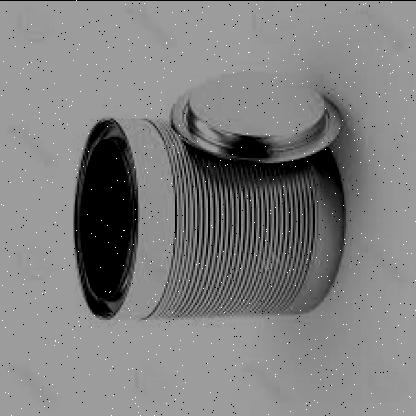Can: (68, 70, 350, 324)
